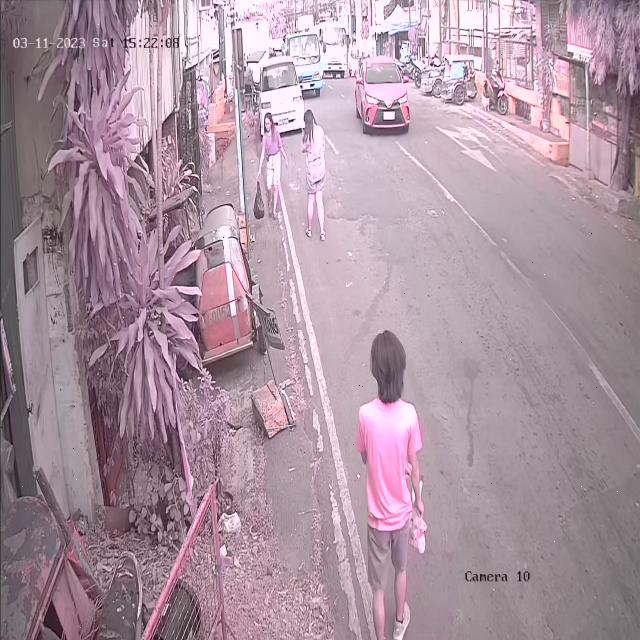garbage_dumping: (403, 466, 428, 562), (254, 175, 266, 220)
